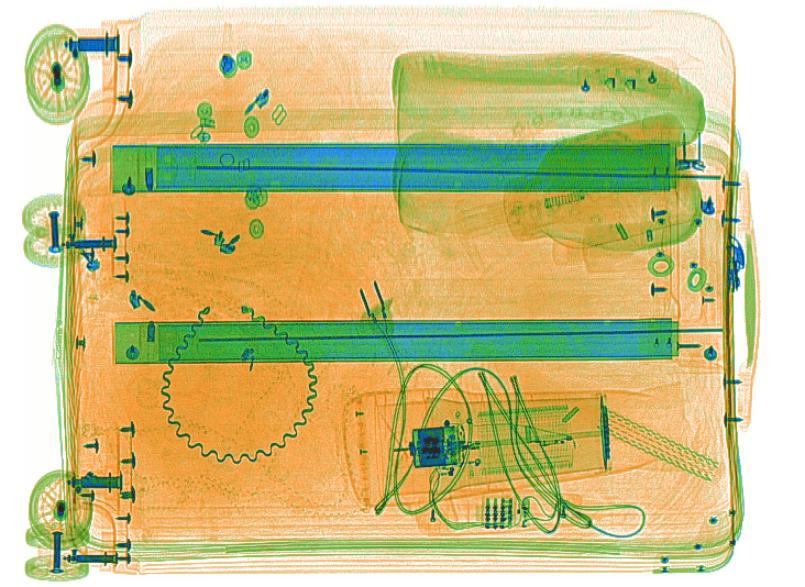plasticBottleWithaNozzle: (454, 111, 705, 274)
